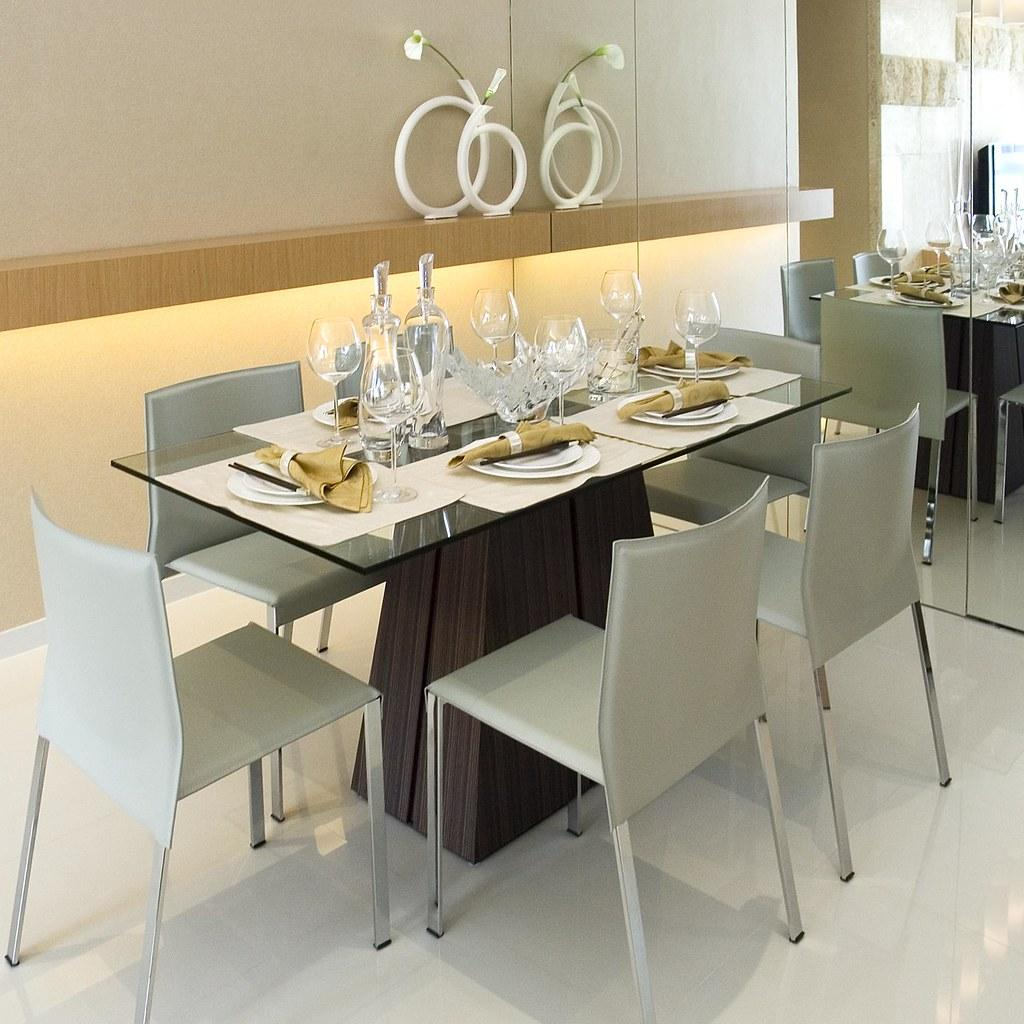table: (107, 331, 878, 870)
